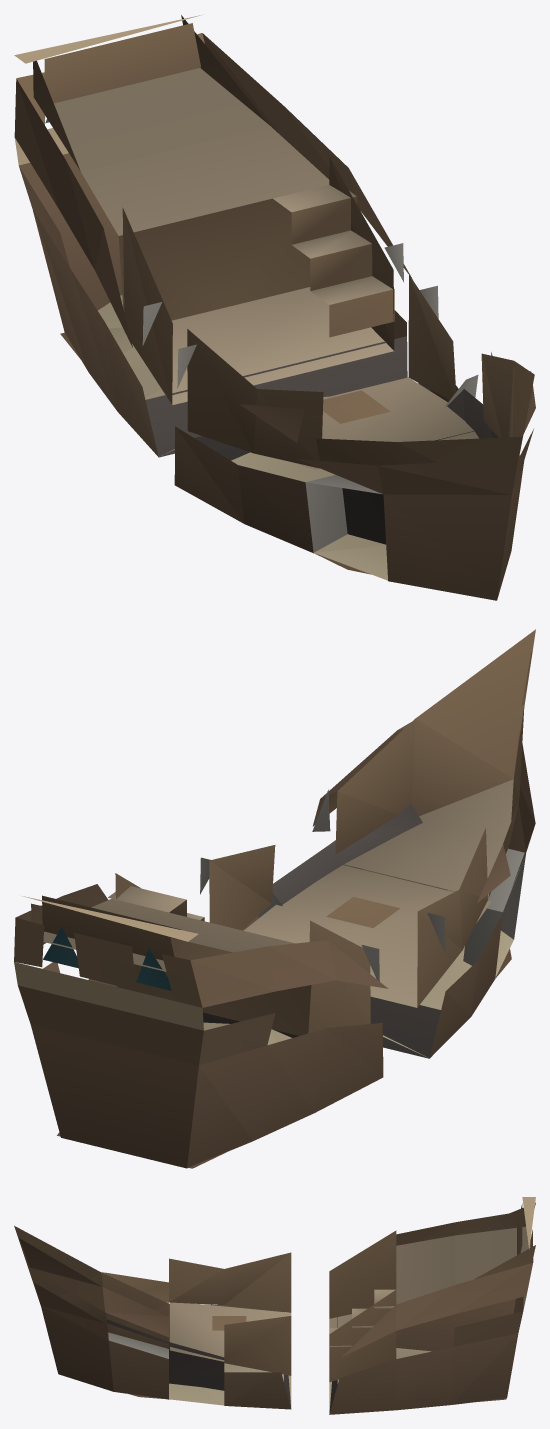
Rendered from wreck.lod.glb.
3 renders of one model, top to bottom at view 1: azimuth 30°, elevation 25°; view 2: azimuth 150°, elevation 25°; view 3: azimuth 270°, elevation 25°, orthographic. The views are drawn at different scales.
Parts seen in each view (by area): view 1: wreck; view 2: wreck; view 3: wreck.
Boxes of the visible parts, box(x1,y1,x2,y2) form: wreck: box(14, 15, 535, 600); wreck: box(14, 629, 535, 1168); wreck: box(14, 1197, 535, 1414).
Bounding box in the file's own units: 3.22 × 2.82 × 8.58.
